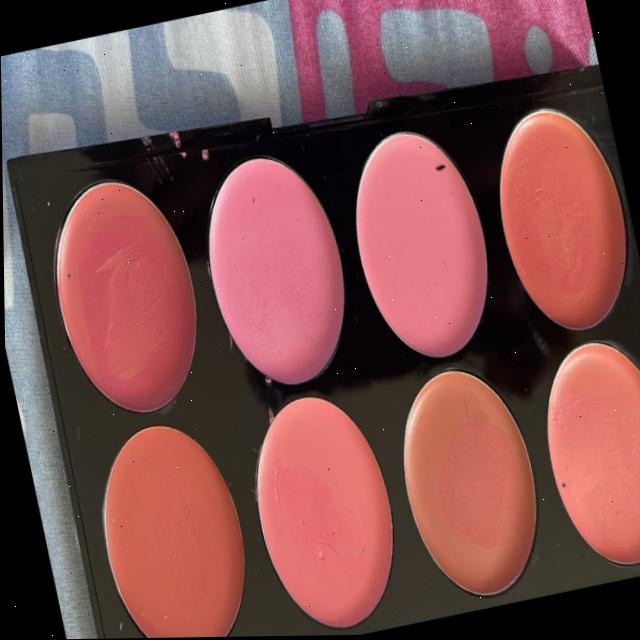lip shade: (26, 72, 640, 640)
